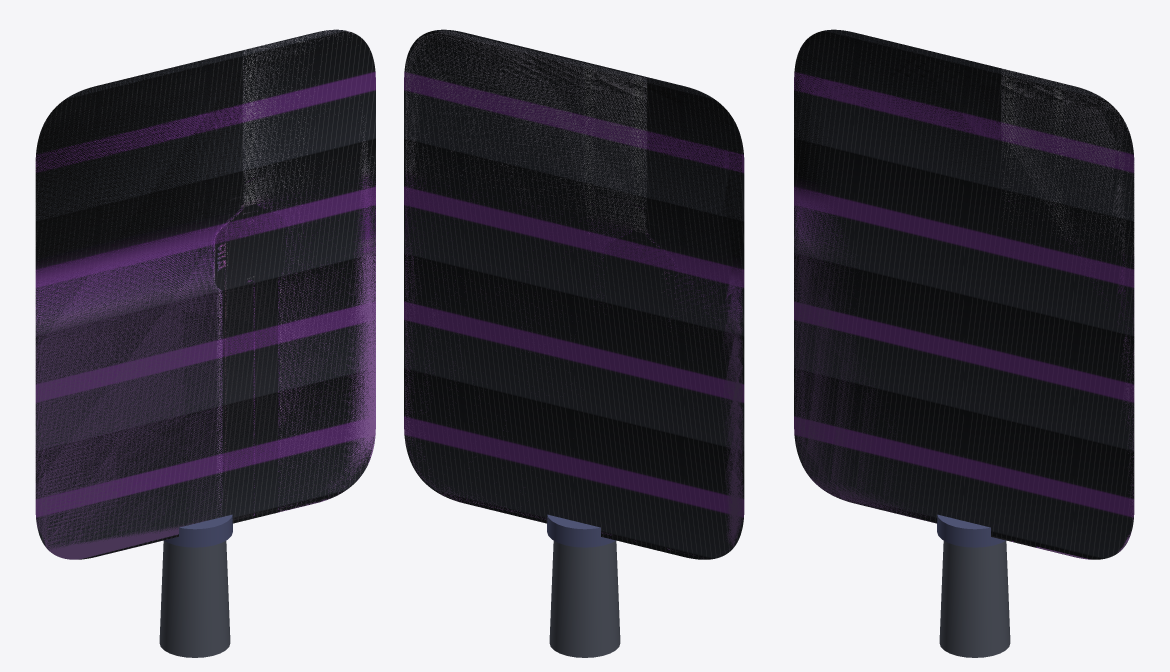
The model's file is paddle-1.glb.
3 views of the same model, side by side, from view 1: azimuth 30°, elevation 25°; view 2: azimuth 150°, elevation 25°; view 3: azimuth 330°, elevation 25° (orthographic).
Parts seen in each view (by area): view 1: Edge, Front, Handle, Grip; view 2: Edge, Back, Handle, Grip; view 3: Edge, Front, Handle, Grip.
Part boxes in pixels (x1=…): Edge: x1=35, y1=29, x2=375, y2=559; Front: x1=35, y1=30, x2=375, y2=559; Handle: x1=159, y1=541, x2=230, y2=657; Grip: x1=164, y1=514, x2=232, y2=547; Edge: x1=404, y1=29, x2=744, y2=559; Back: x1=405, y1=30, x2=743, y2=559; Handle: x1=549, y1=541, x2=620, y2=657; Grip: x1=547, y1=514, x2=615, y2=547; Edge: x1=794, y1=29, x2=1134, y2=559; Front: x1=794, y1=29, x2=1134, y2=559; Handle: x1=939, y1=541, x2=1010, y2=657; Grip: x1=937, y1=514, x2=1005, y2=547.
Size of the model in its own units: 3.1 by 5.15 by 0.6.
Materials: 5 (3 with a texture image).
